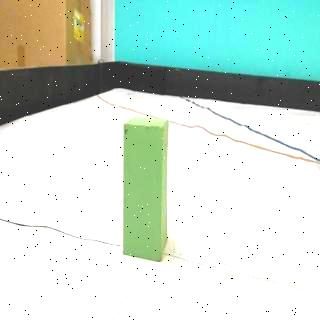greenbox: (123, 116, 169, 262)
